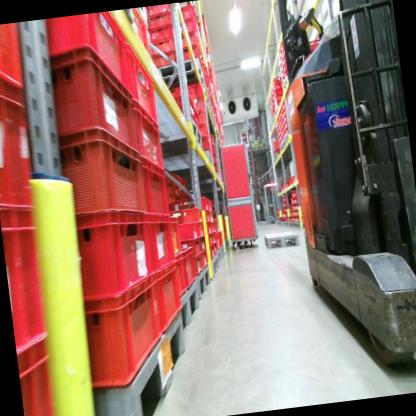pallet: (81, 313, 196, 416), (152, 112, 203, 153), (173, 279, 205, 332), (157, 59, 205, 86), (263, 224, 300, 254), (193, 263, 215, 303), (209, 252, 220, 278), (216, 245, 224, 263)
pallet_truck: (271, 0, 416, 376)
small_load_carrier: (118, 9, 179, 282), (42, 40, 142, 173), (76, 272, 169, 393), (69, 197, 159, 312), (1, 207, 63, 372), (52, 127, 148, 226), (42, 10, 130, 104), (0, 64, 46, 217), (18, 337, 63, 416), (124, 30, 159, 128), (0, 22, 33, 110), (152, 261, 185, 334), (136, 109, 169, 177), (141, 160, 172, 222), (161, 215, 185, 259), (168, 252, 188, 302), (177, 243, 198, 288), (172, 93, 197, 125), (168, 80, 204, 101), (172, 45, 202, 67), (170, 207, 203, 226), (146, 10, 171, 33), (150, 36, 173, 58), (172, 2, 196, 23), (172, 89, 197, 109), (177, 221, 201, 241), (150, 49, 176, 66), (173, 17, 197, 35), (170, 197, 194, 214), (149, 25, 173, 40), (187, 236, 202, 258), (188, 197, 210, 212), (178, 32, 199, 47), (146, 4, 170, 17), (192, 250, 204, 274), (195, 246, 208, 268), (201, 133, 211, 157), (192, 107, 201, 133), (198, 109, 208, 129), (195, 11, 206, 29), (197, 219, 207, 238), (198, 232, 208, 251), (212, 214, 220, 237), (199, 124, 209, 139), (196, 96, 205, 111), (214, 232, 221, 251), (205, 231, 214, 245), (206, 197, 213, 213), (207, 244, 215, 257), (218, 231, 224, 248), (204, 221, 212, 232), (204, 210, 211, 221), (222, 229, 228, 241), (212, 231, 217, 245), (212, 241, 217, 255), (220, 216, 225, 229), (209, 222, 214, 233), (210, 213, 214, 223)
